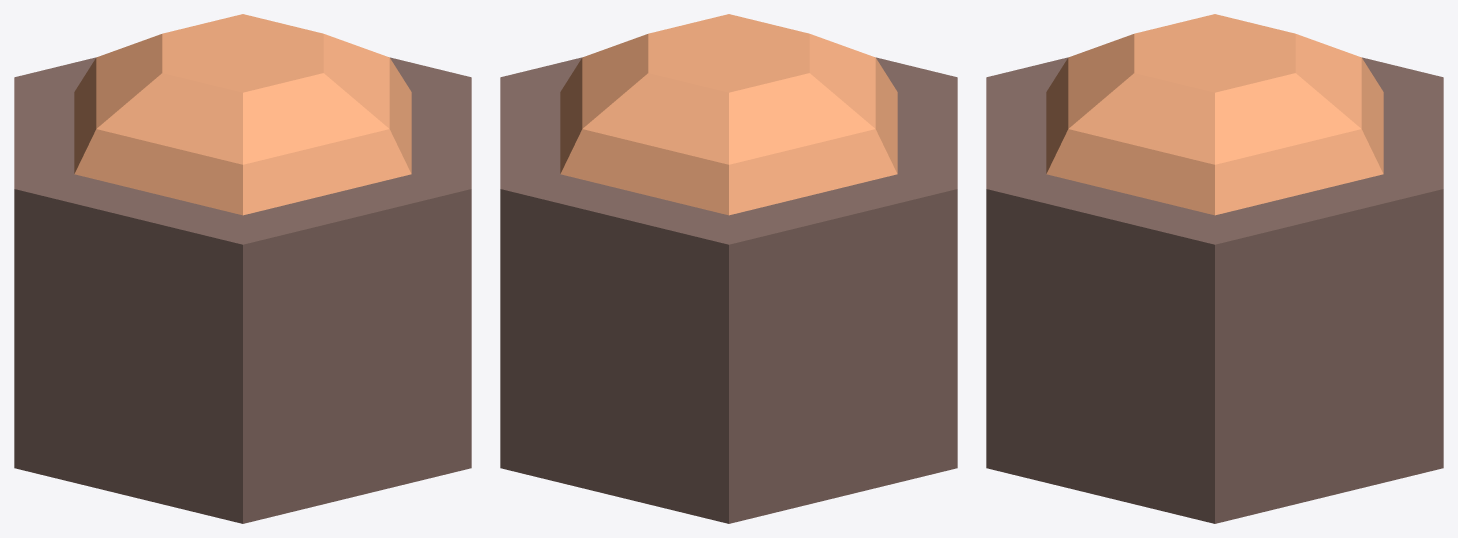
Rendered from maki_roe.glb.
3 renders of one model, left to right at view 1: azimuth 30°, elevation 25°; view 2: azimuth 150°, elevation 25°; view 3: azimuth 270°, elevation 25°, orthographic.
Visible parts, largest first — view 1: makiRoe; view 2: makiRoe; view 3: makiRoe.
Part boxes in pixels (left/top/right/bottom): makiRoe: left=14, top=14, right=471, bottom=523; makiRoe: left=500, top=14, right=957, bottom=523; makiRoe: left=986, top=14, right=1443, bottom=523.
Bounding box in the file's own units: 0.12 × 0.09 × 0.1039.
